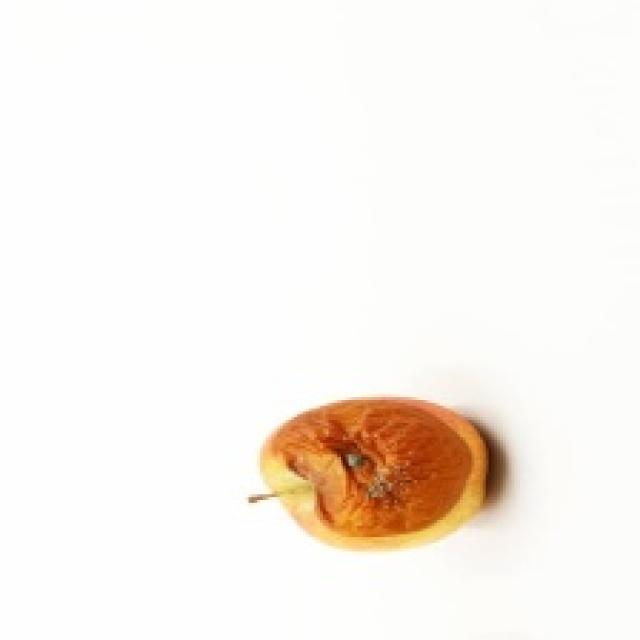rotten_apple: (259, 403, 489, 542)
